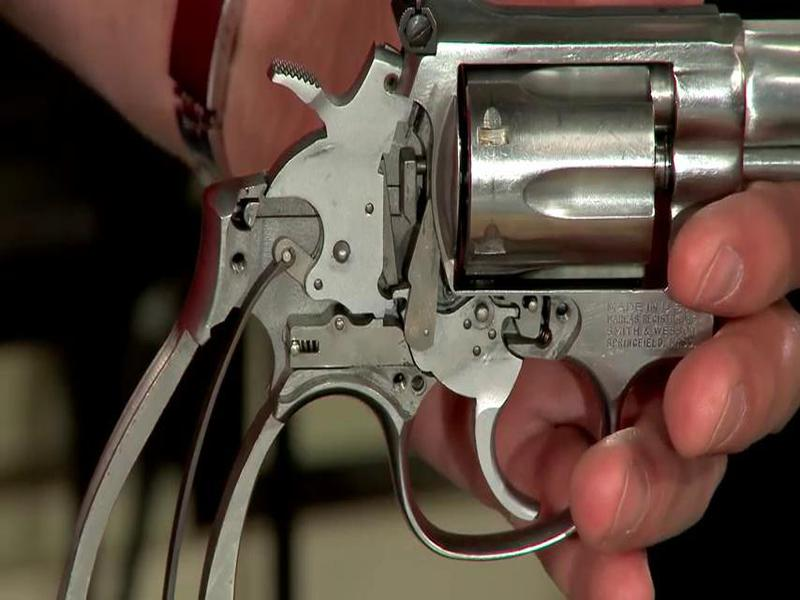Revolver: (114, 6, 800, 502)
